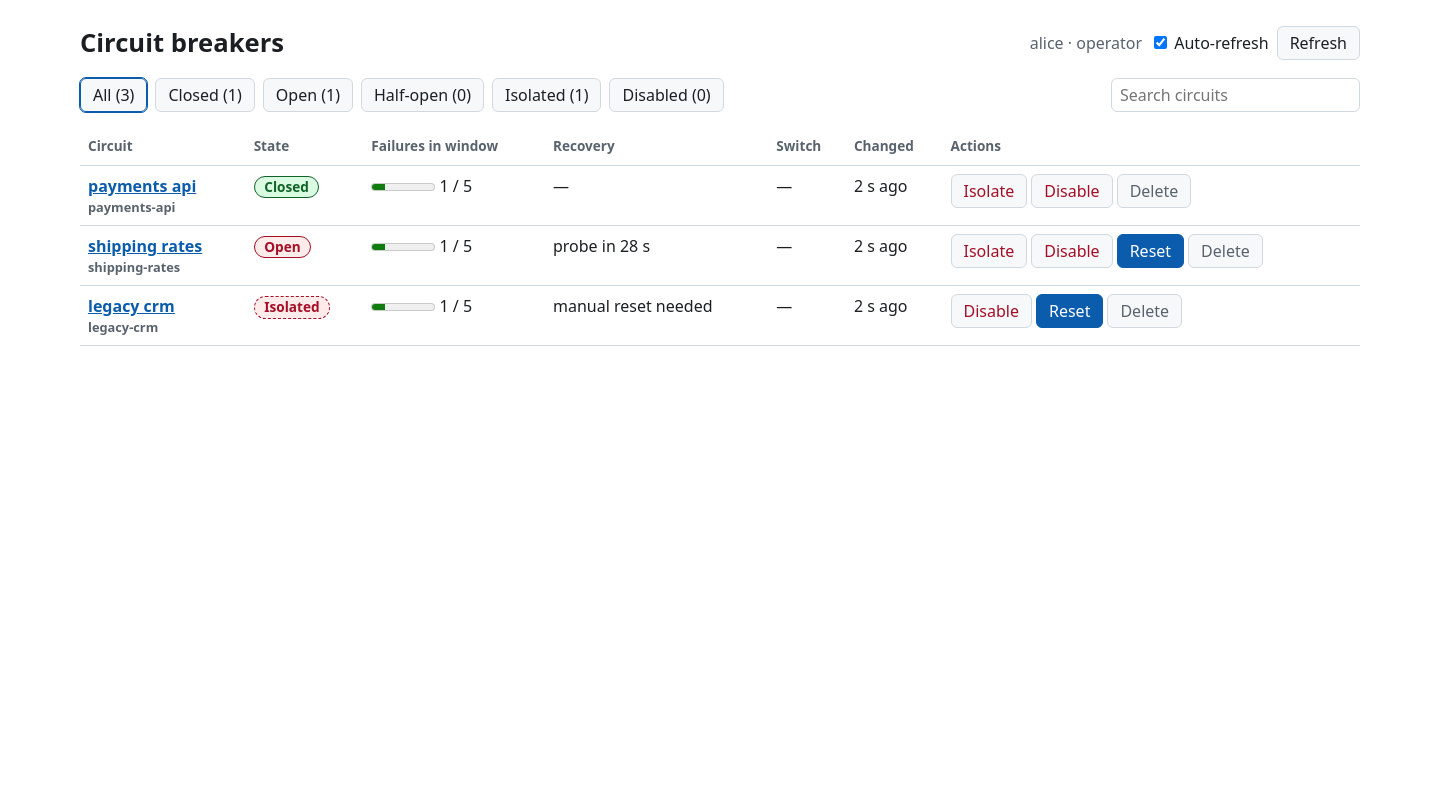
Test: the circuit console › keeps focus inside the dialog and returns it on Escape without acting
Click the button with aria-label "Isolate payments api" at coordinates (989, 191), box [950, 174, 1027, 208]
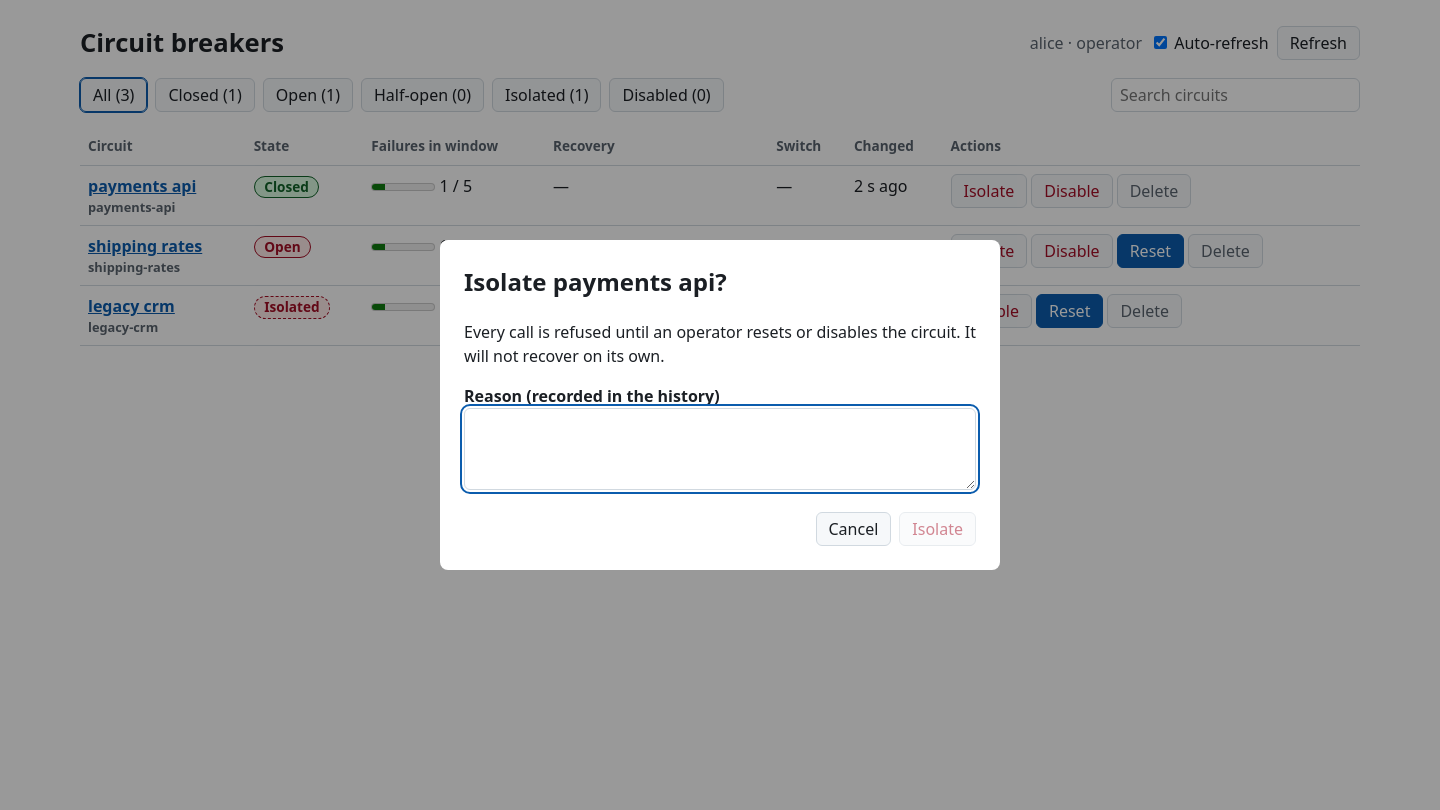
Press Tab
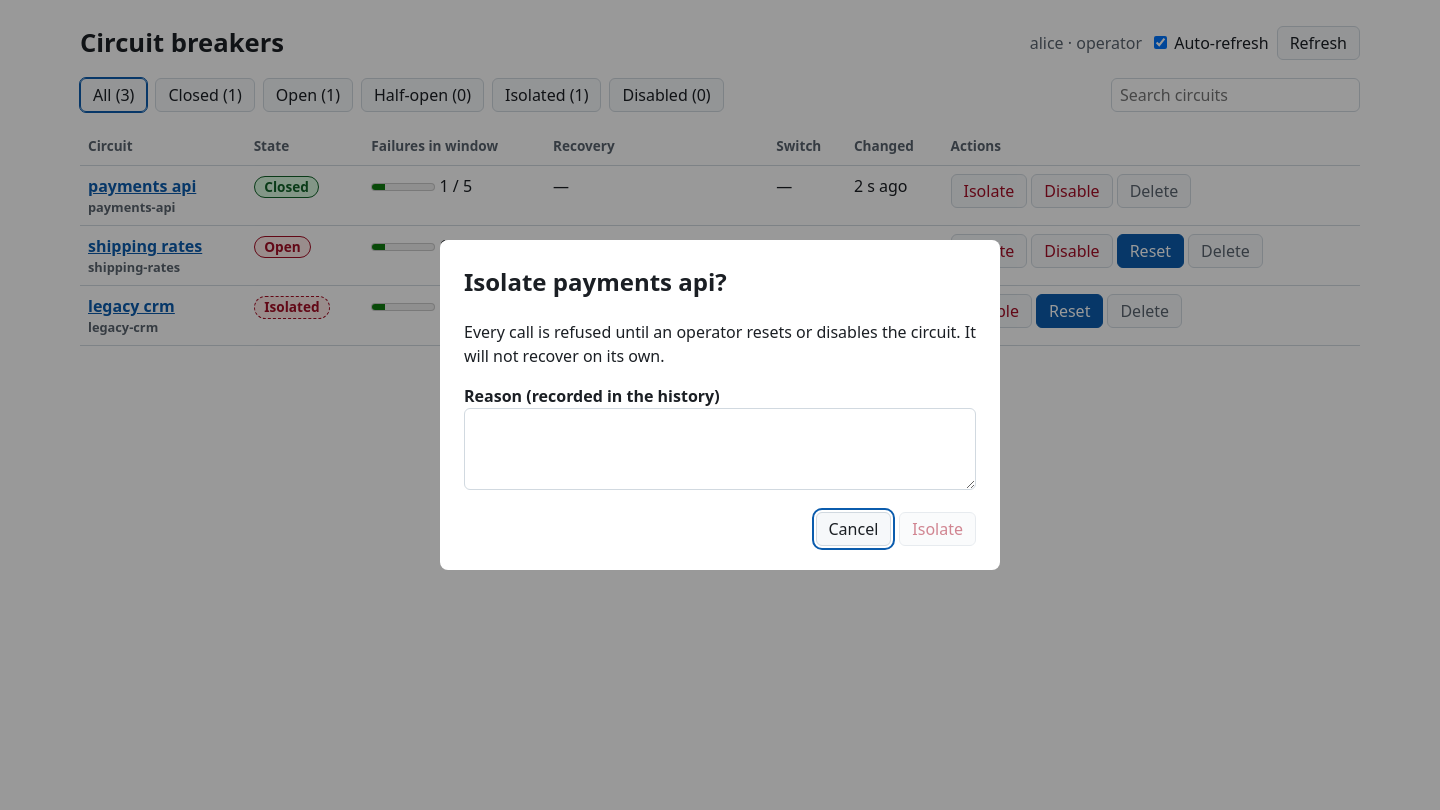
Press Tab
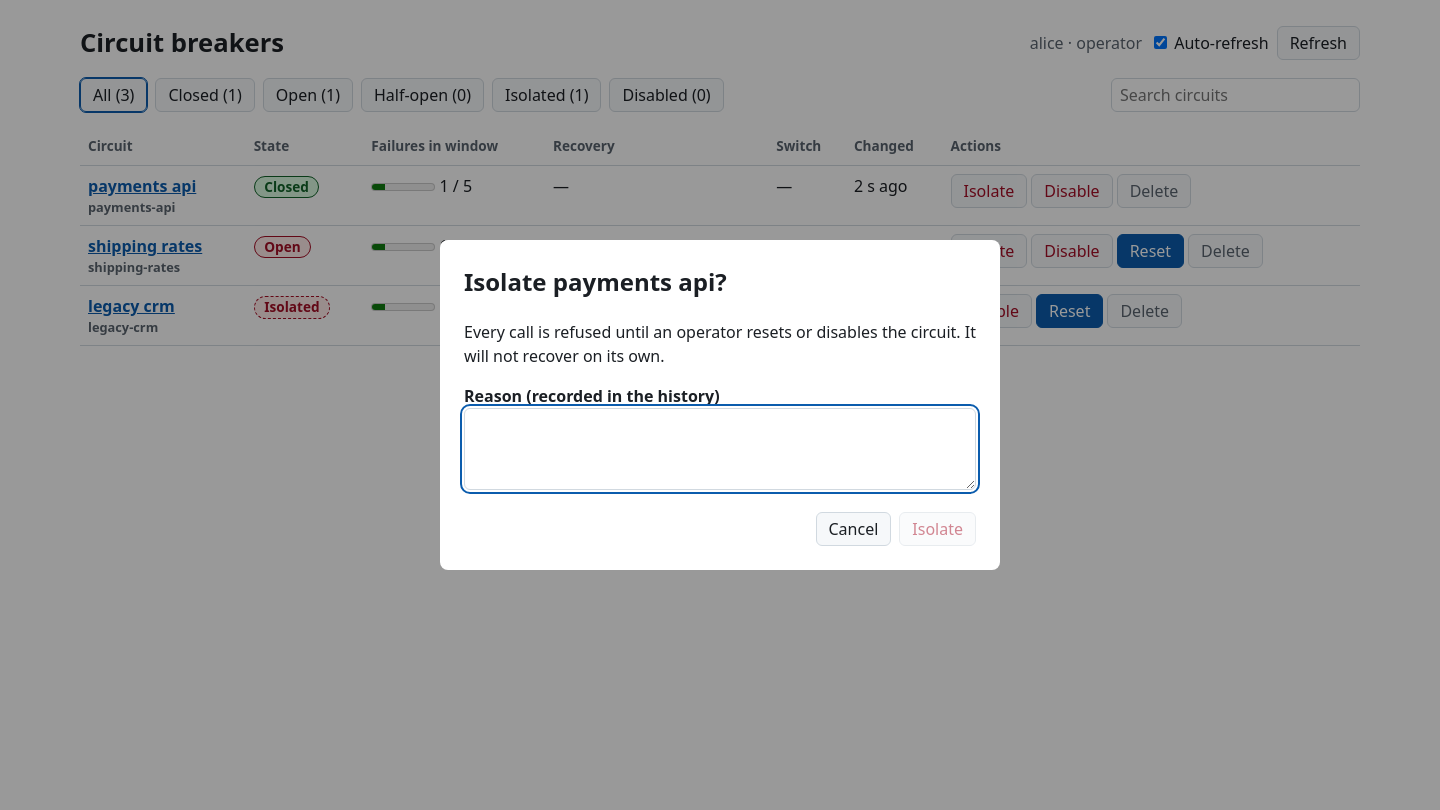
Press Escape
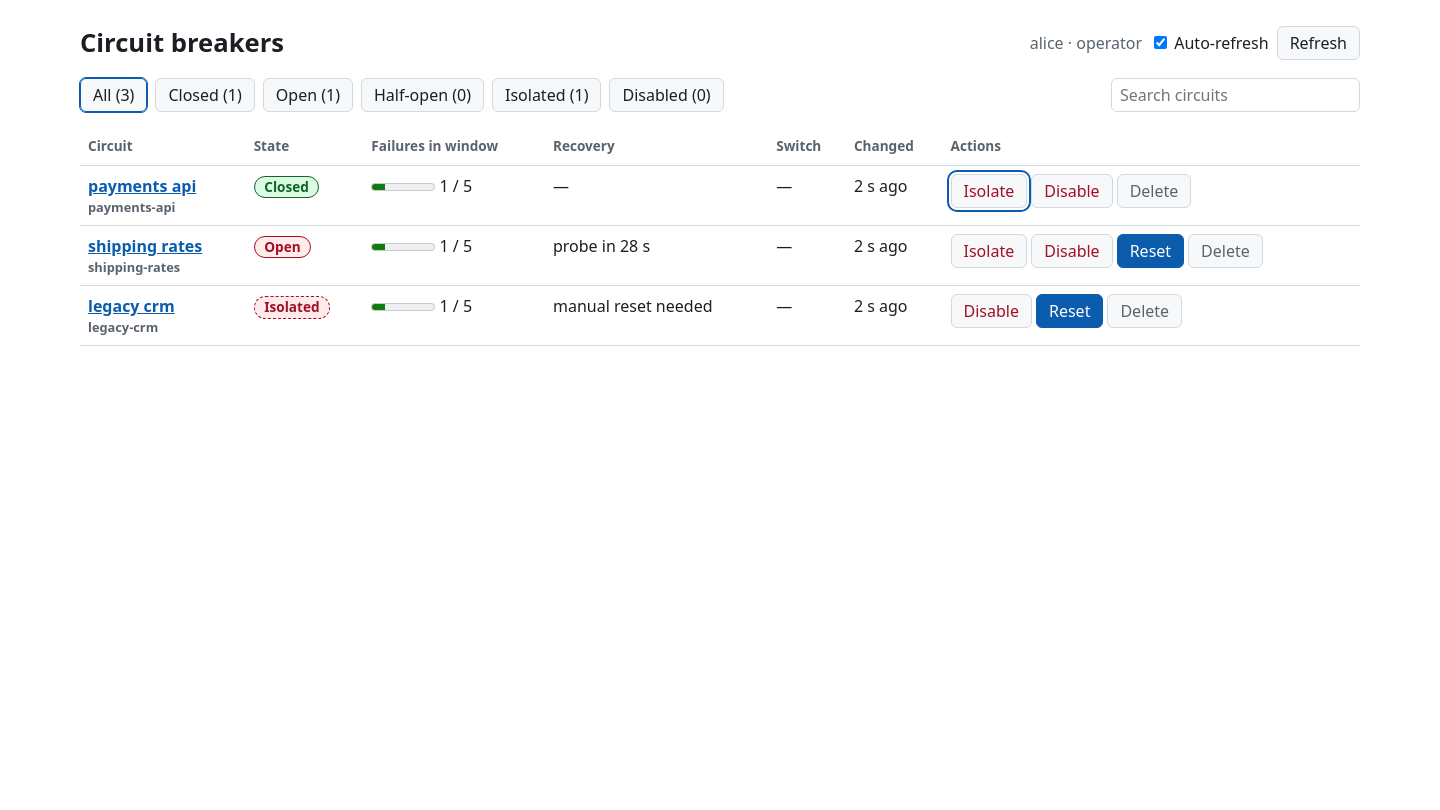
Check: the dialog is gone
